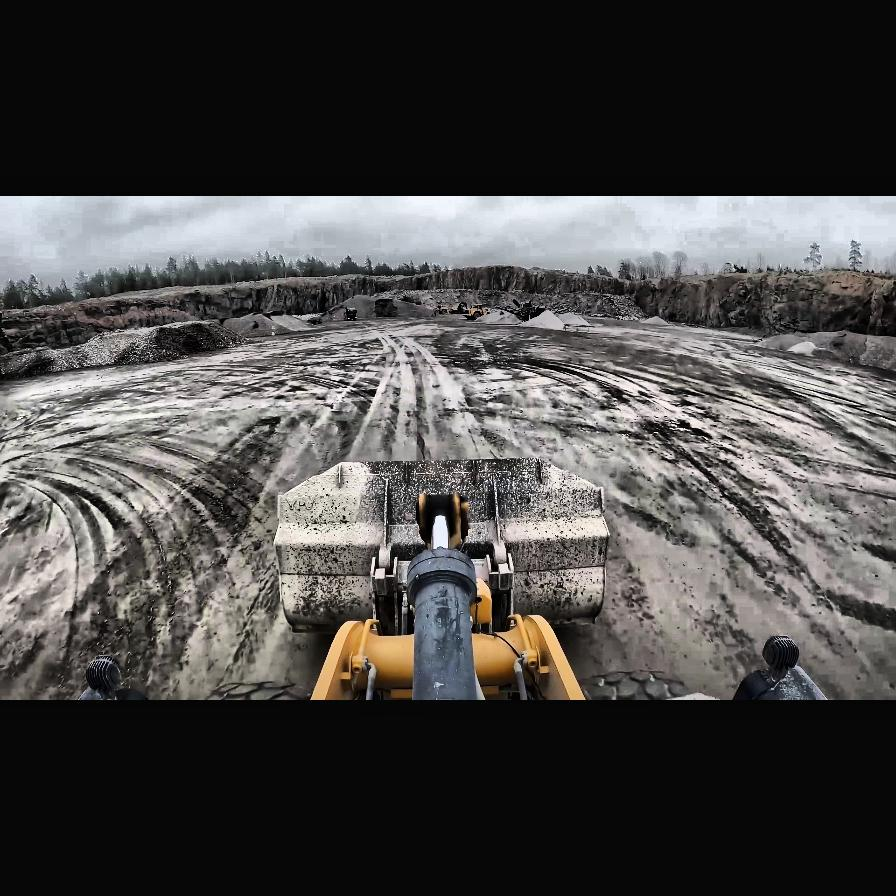anchor: (417, 492, 467, 550)
pile of gravel: (4, 320, 244, 380), (766, 328, 894, 376), (313, 292, 417, 321), (160, 320, 238, 352), (222, 312, 307, 336), (1, 348, 56, 380), (519, 310, 565, 330), (554, 313, 592, 327), (487, 309, 519, 323), (638, 315, 670, 325)
